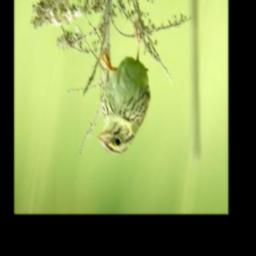Sparrow: (97, 22, 151, 155)
